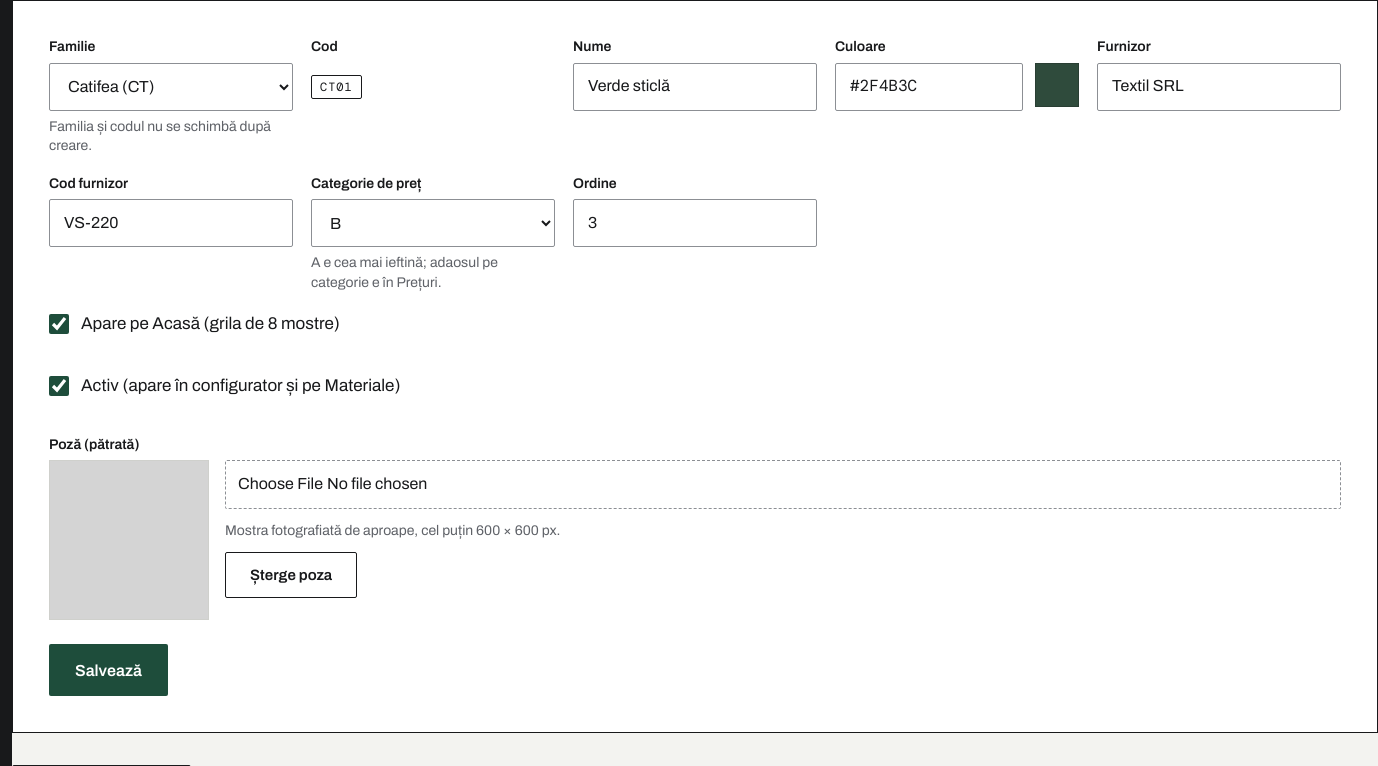
Test case: MaterialForm for an existing material › posts the id and the fixed family, never a code
Replace the text in the field labelled "Nume" with "Verde închis" at (695,87), box [573, 63, 817, 111]
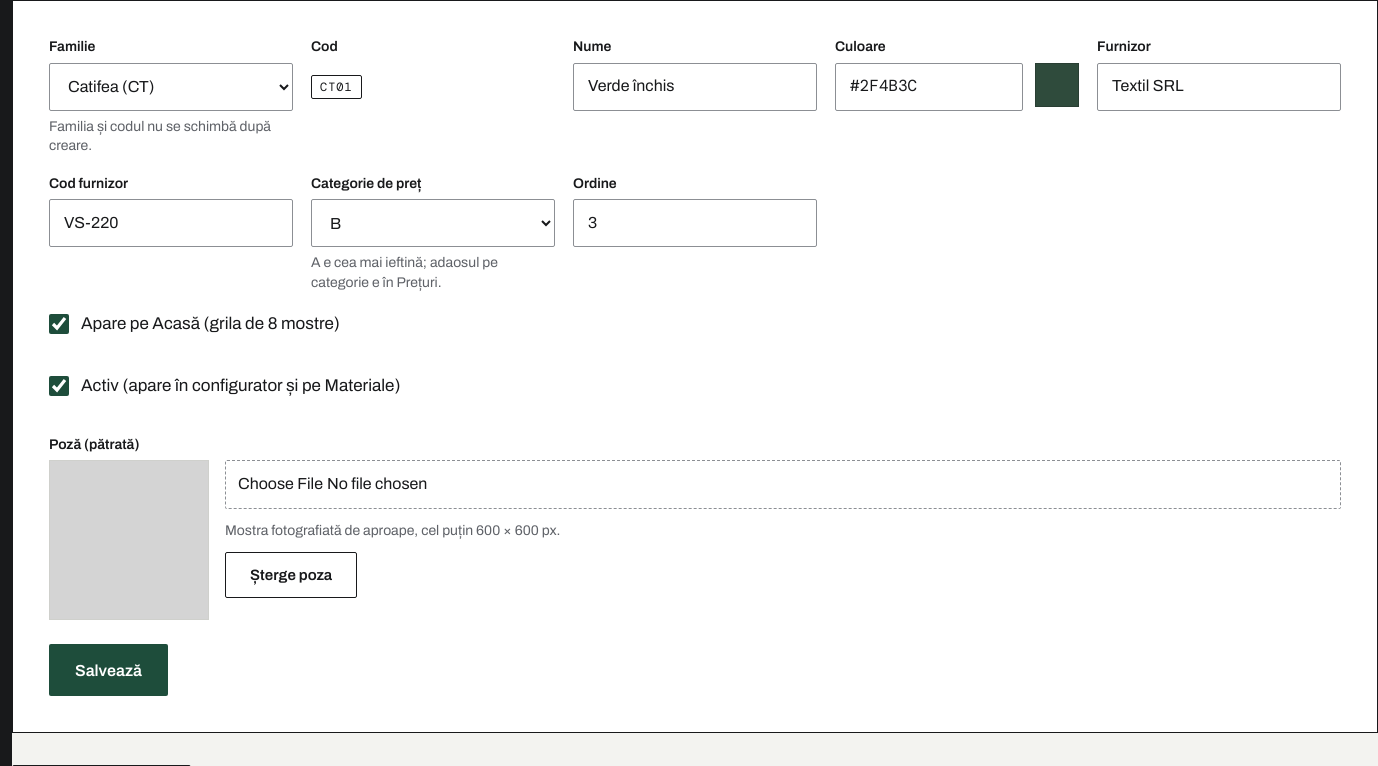
Click the checkbox labelled "Activ (apare în configurator și pe Materiale)" at (59,386), box [49, 376, 69, 396]
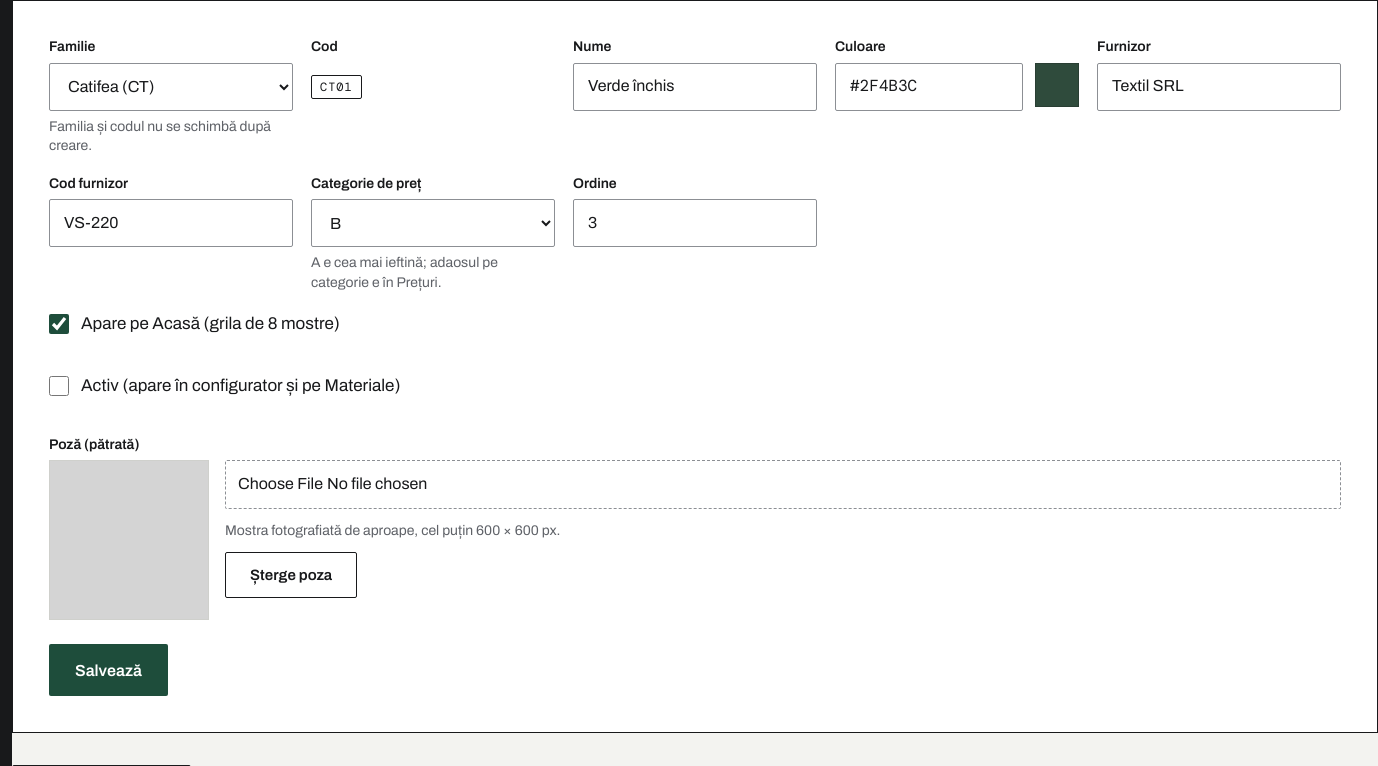
Click the button "Salvează" at (108,670), box [49, 644, 168, 696]
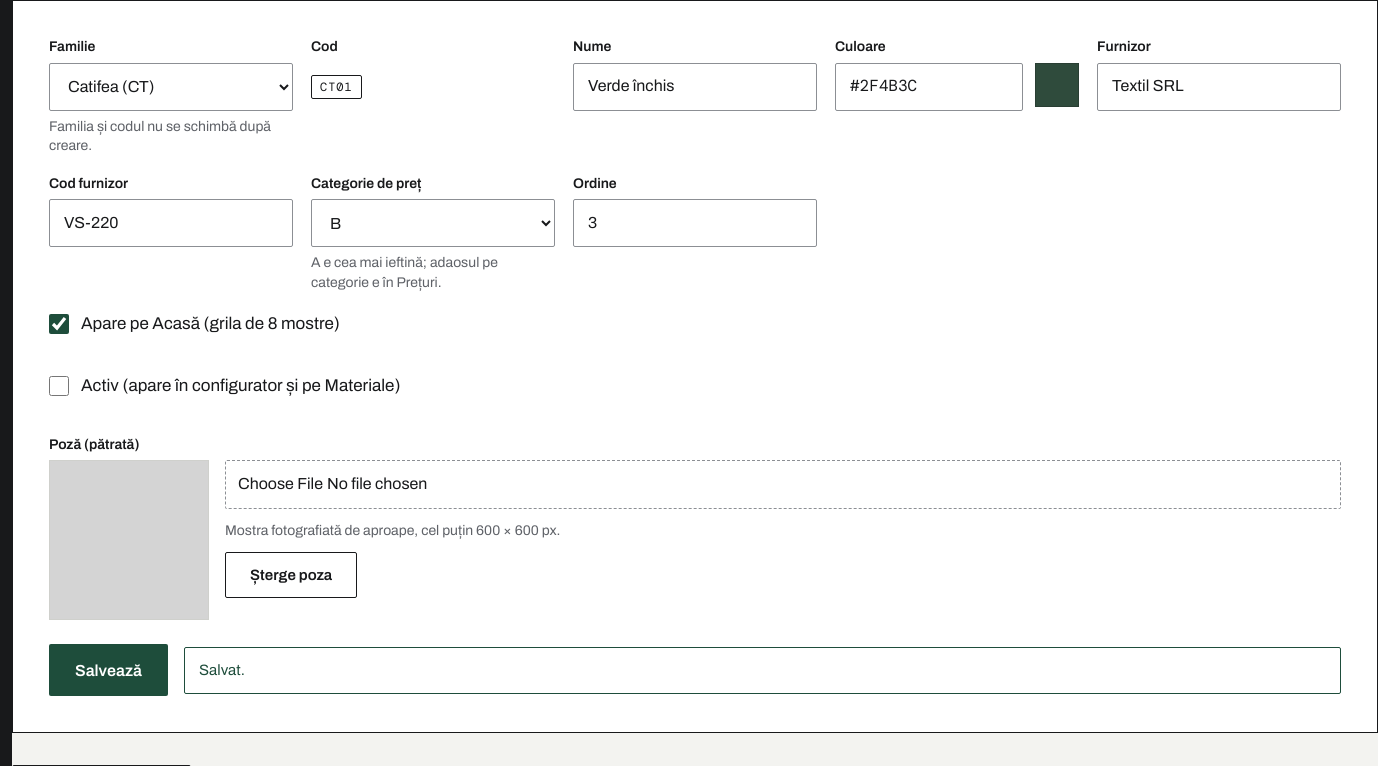
Check: the message reads "Salvat.", box [199, 662, 245, 678]
